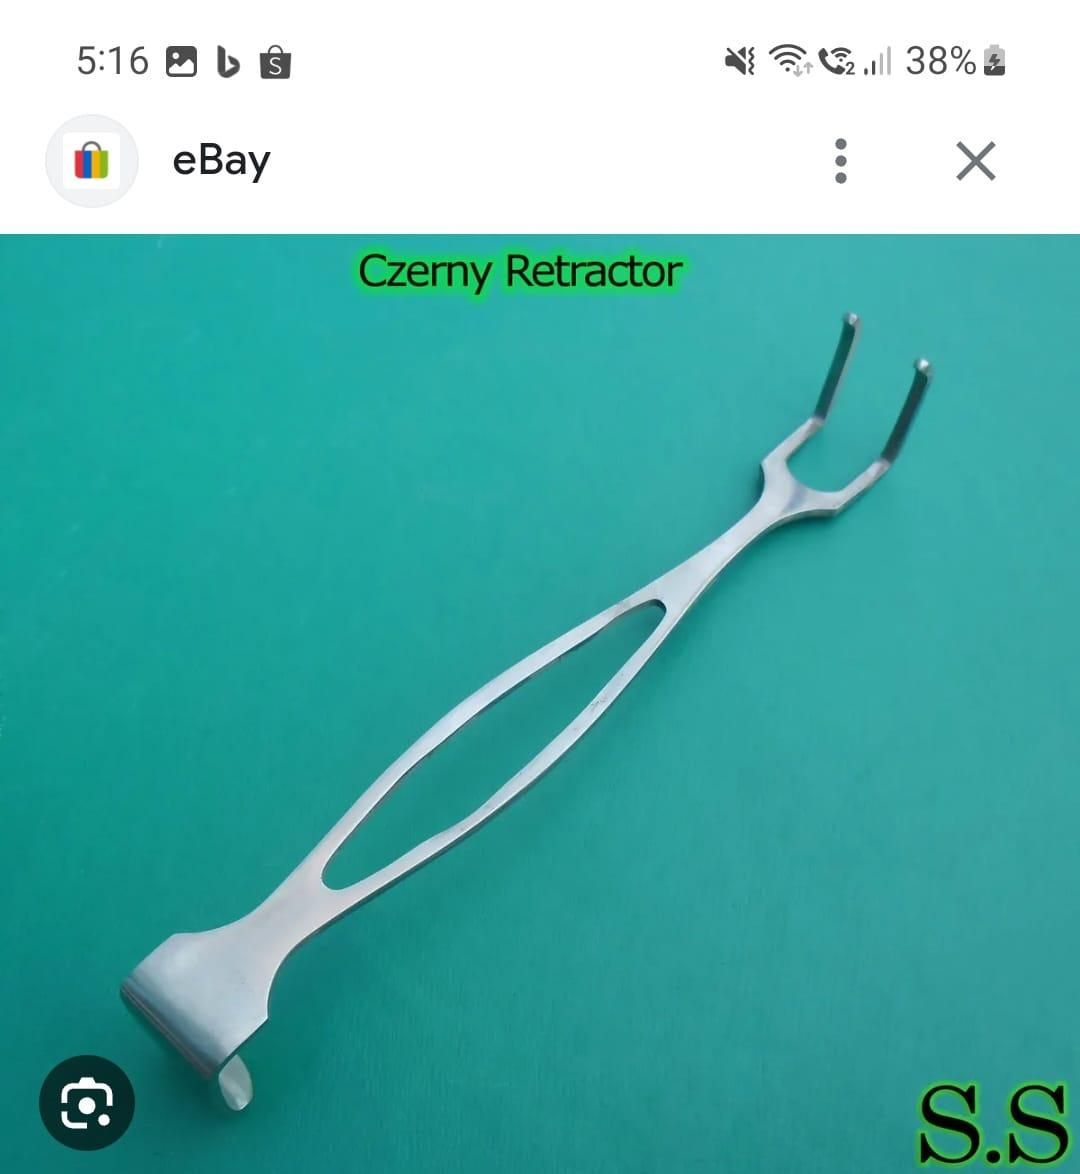Czerney Retractor: (115, 307, 950, 1120)
